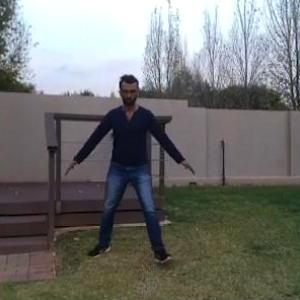land: (79, 75, 191, 268)
